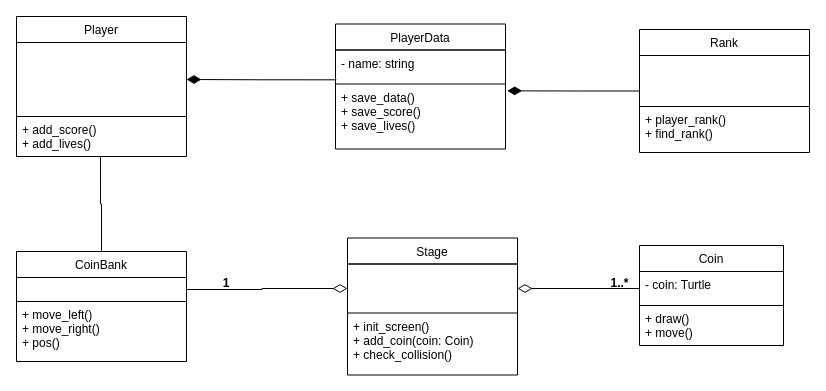
The diagram is 826 pixels wide and 391 high, and some of its shapes have lost their labels. Here are the shapes that lost their labels. From the top down, the centre of each, then its label:
point (101, 79): - player_name: string - data: Data() - score: int - lives: int
point (724, 80): - player_data: dict - score_list = []
point (101, 289): - bank: Turtle
point (432, 288): - painter: Turtle() - screen: Screen()
